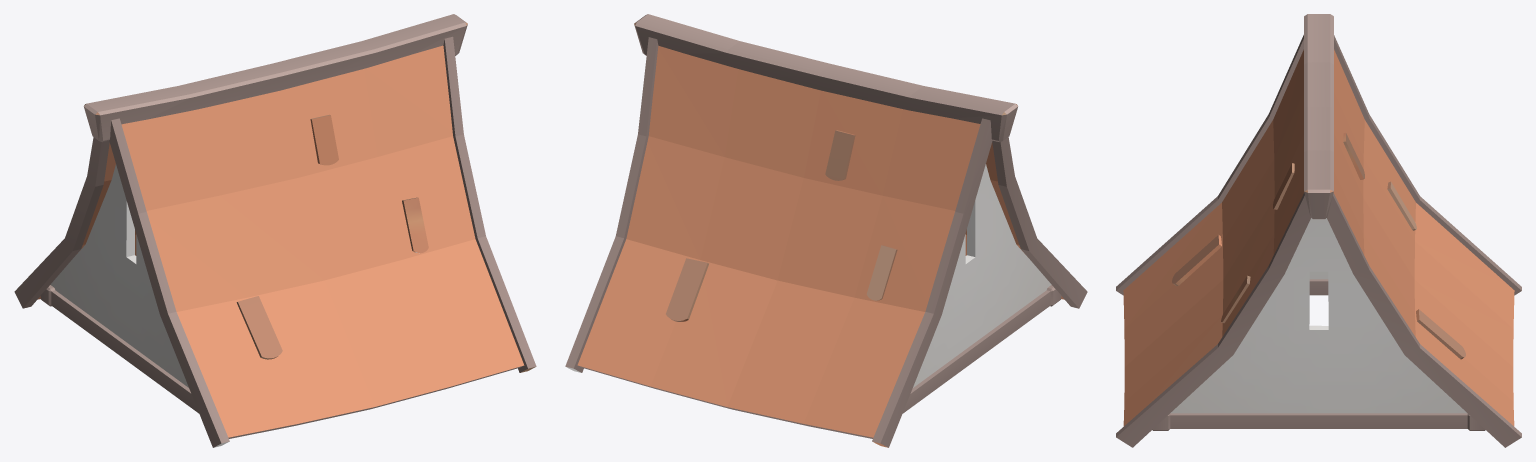
The picture shows the model from 3 angles, left to right: view 1: azimuth 30°, elevation 25°; view 2: azimuth 150°, elevation 25°; view 3: azimuth 270°, elevation 25°; orthographic projection. The views are drawn at different scales.
Visible parts, largest first — view 1: dach_med_diffuse_0, ChamferBox008; view 2: dach_med_diffuse_0, ChamferBox008; view 3: dach_med_diffuse_0, ChamferBox008.
Boxes of the visible parts, x1=… form: dach_med_diffuse_0: x1=14, y1=14, x2=536, y2=447; ChamferBox008: x1=40, y1=285, x2=198, y2=413; dach_med_diffuse_0: x1=565, y1=14, x2=1087, y2=447; ChamferBox008: x1=902, y1=285, x2=1061, y2=413; dach_med_diffuse_0: x1=1116, y1=14, x2=1521, y2=447; ChamferBox008: x1=1152, y1=279, x2=1485, y2=430.
Size of the model in its own units: 4.4 by 3.12 by 4.23.
Materials: 1 (1 with a texture image).
